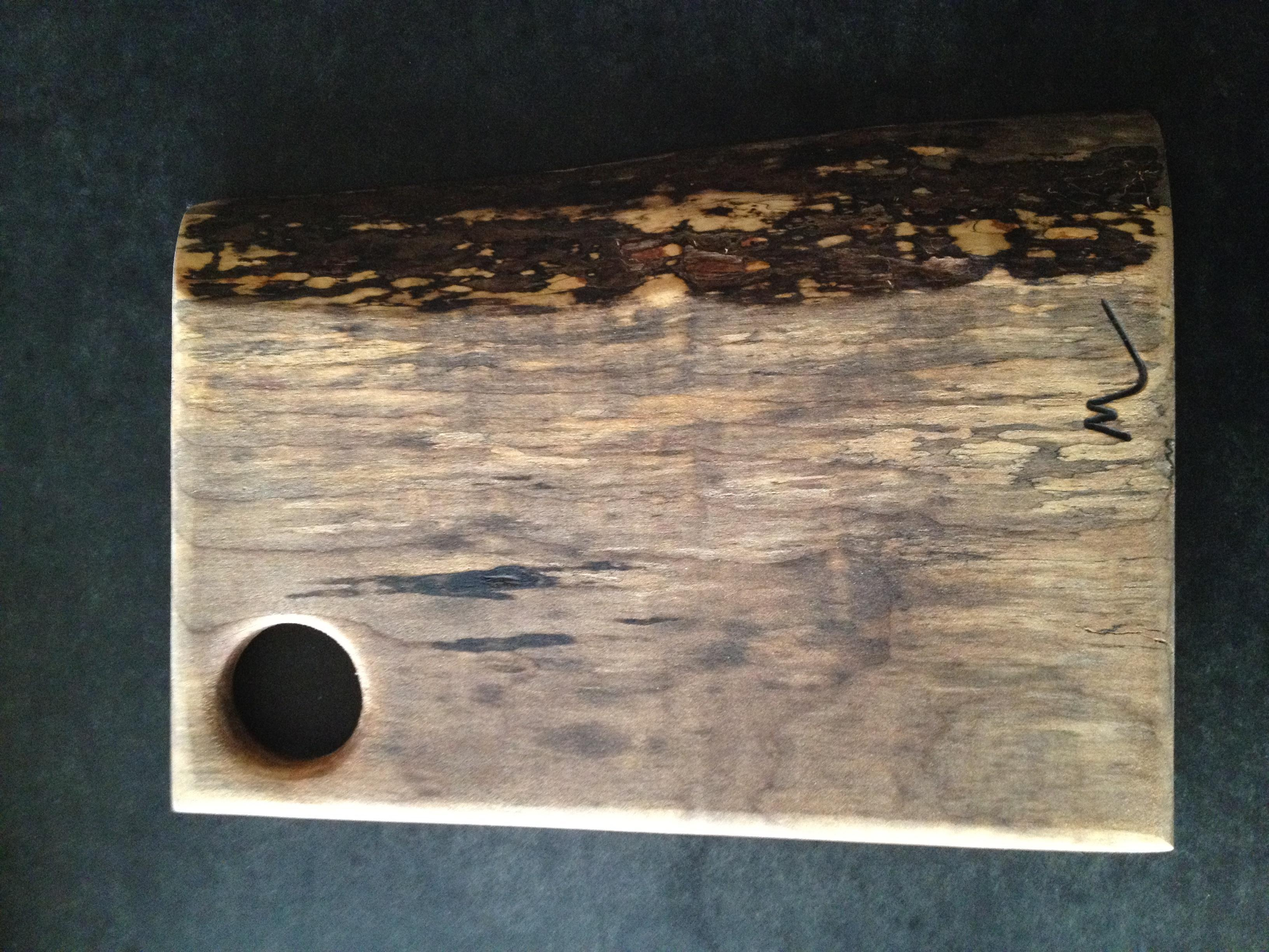gloved_hand: (94, 141, 858, 952)
